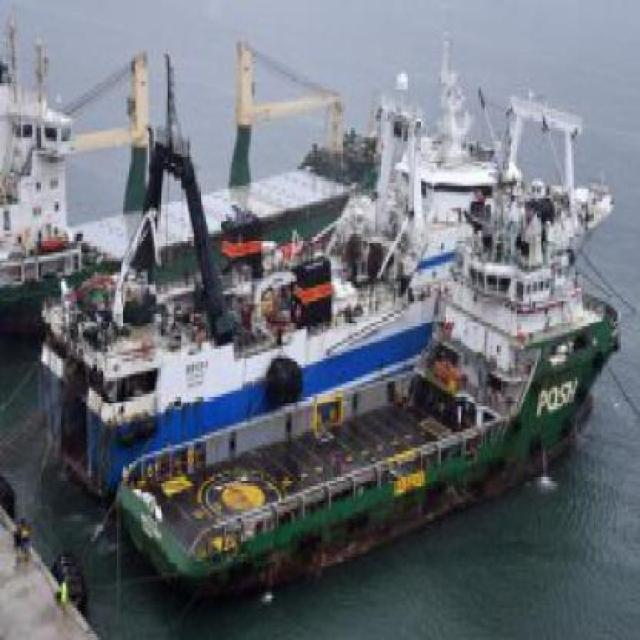fish-b: (112, 154, 633, 606), (29, 53, 512, 500)
